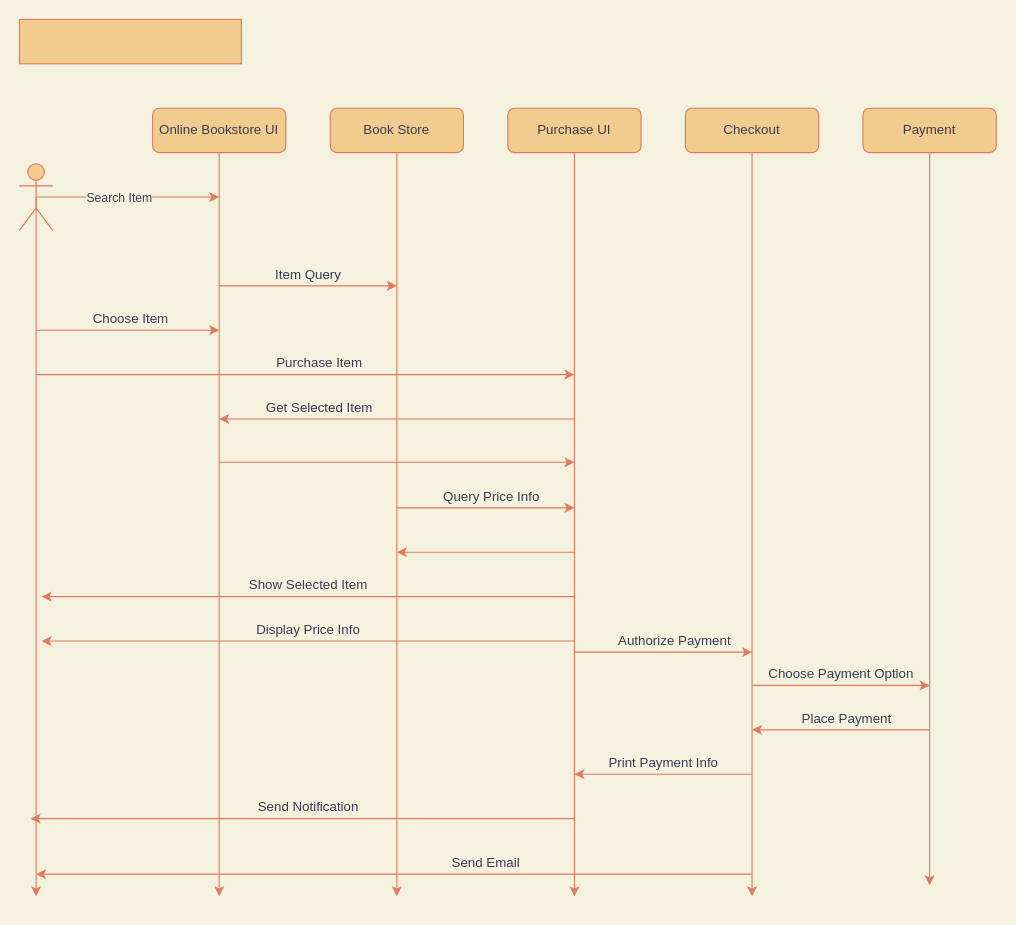
This 1016x925 diagram has some shape labels left out. Each missing label, with the centre of its shape:
"Actor" goes at (35,196).
"Sequence" goes at (129,41).
